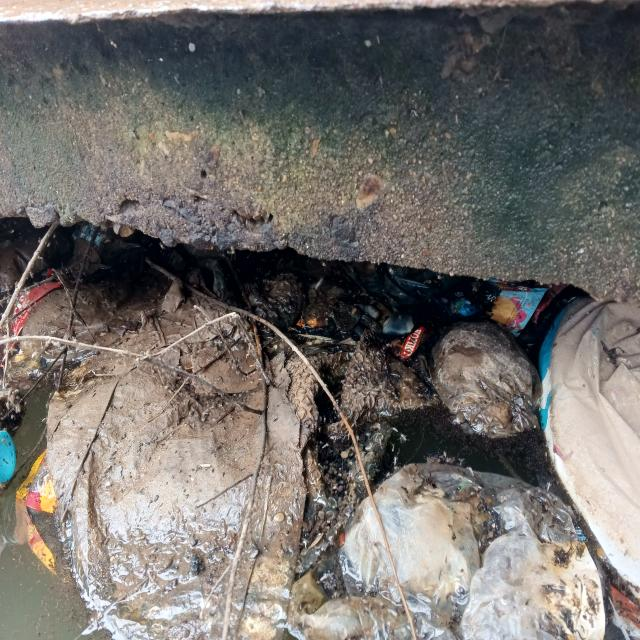Breeding Place: (1, 221, 640, 640)
